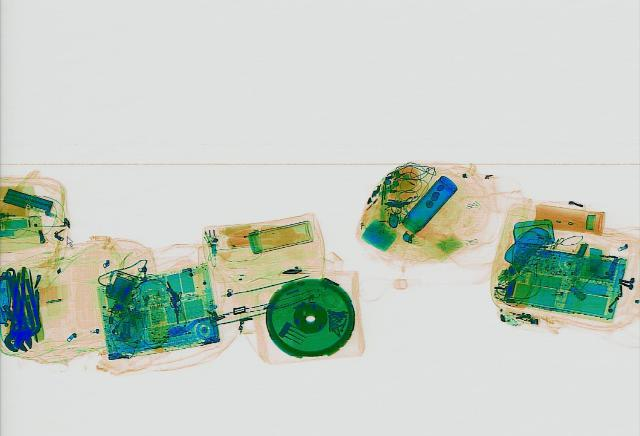Wrench: (1, 265, 32, 348)
